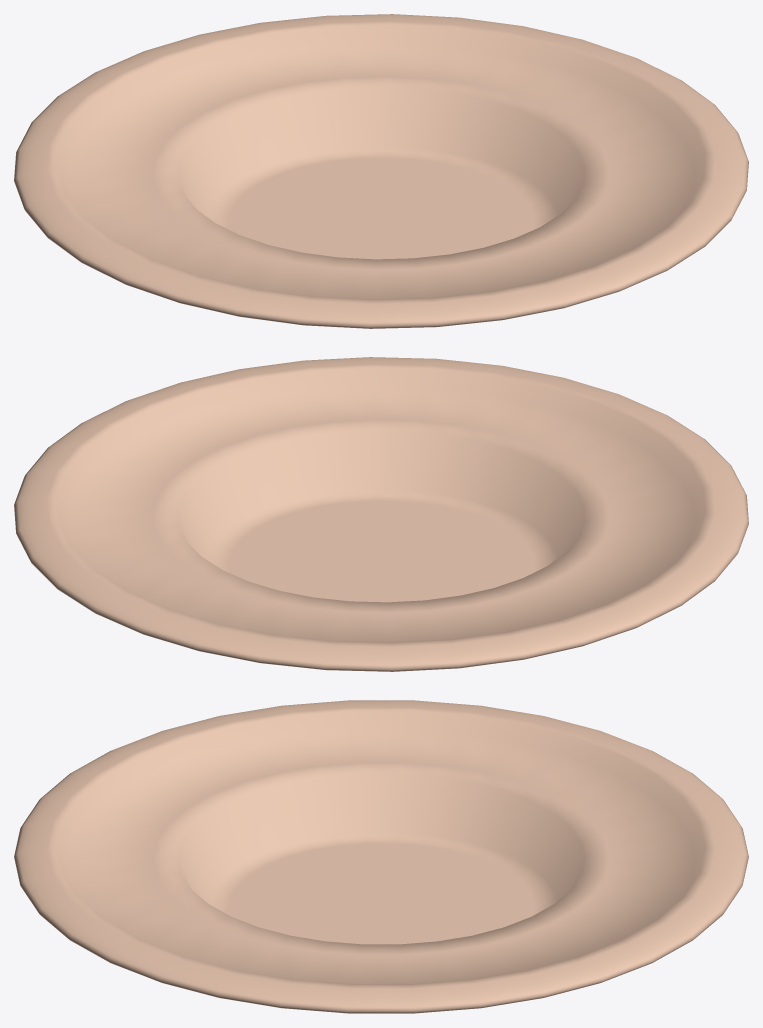
File: plate.fbx
3 renders of one model, top to bottom at view 1: azimuth 30°, elevation 25°; view 2: azimuth 150°, elevation 25°; view 3: azimuth 270°, elevation 25°, orthographic.
Parts seen in each view (by area): view 1: ChamferCyl003; view 2: ChamferCyl003; view 3: ChamferCyl003.
Boxes of the visible parts, x1=… form: ChamferCyl003: x1=14, y1=14, x2=748, y2=328; ChamferCyl003: x1=14, y1=357, x2=748, y2=671; ChamferCyl003: x1=14, y1=700, x2=748, y2=1013.
Bounding box in the file's own units: 1228 × 120 × 1233.
